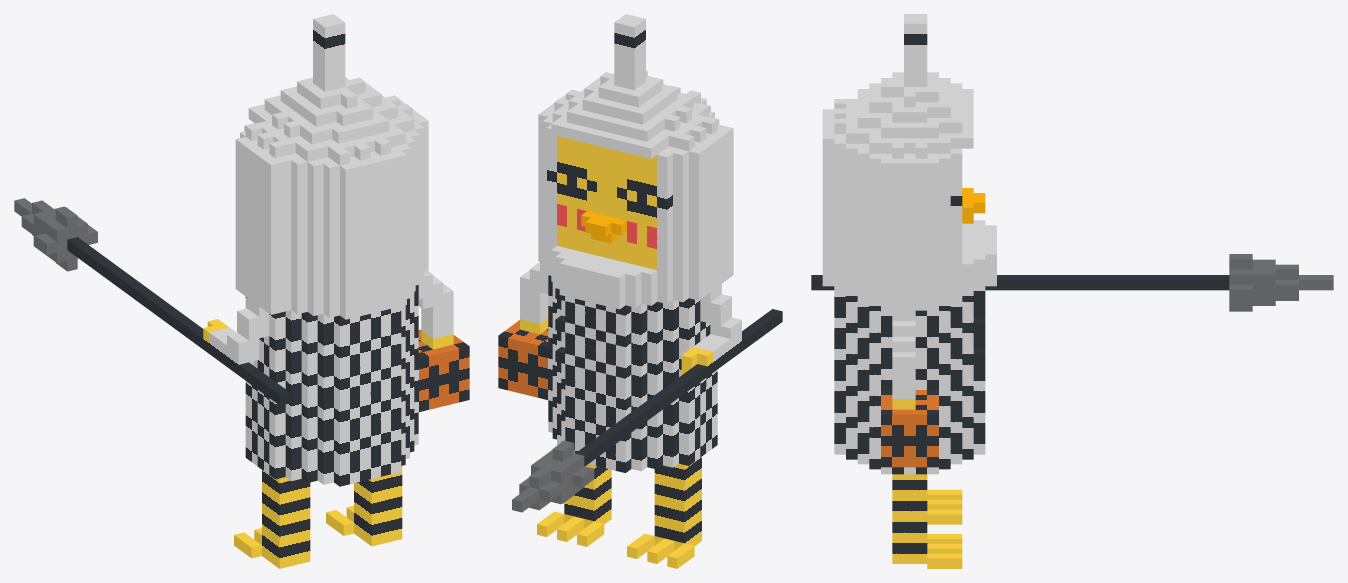
The model's file is 坤家军冲锋.gltf.
The picture shows the model from 3 angles, left to right: view 1: azimuth 30°, elevation 25°; view 2: azimuth 150°, elevation 25°; view 3: azimuth 270°, elevation 25°; orthographic projection. The views are drawn at different scales.
Parts seen in each view (by area): view 1: Object; view 2: Object; view 3: Object.
Part boxes in pixels (<box>): Object: <box>14,14,469,568</box>; Object: <box>498,14,782,568</box>; Object: <box>811,14,1333,568</box>.
Size of the model in its own units: 24 by 49 by 45.
1 material, 1 textured.
